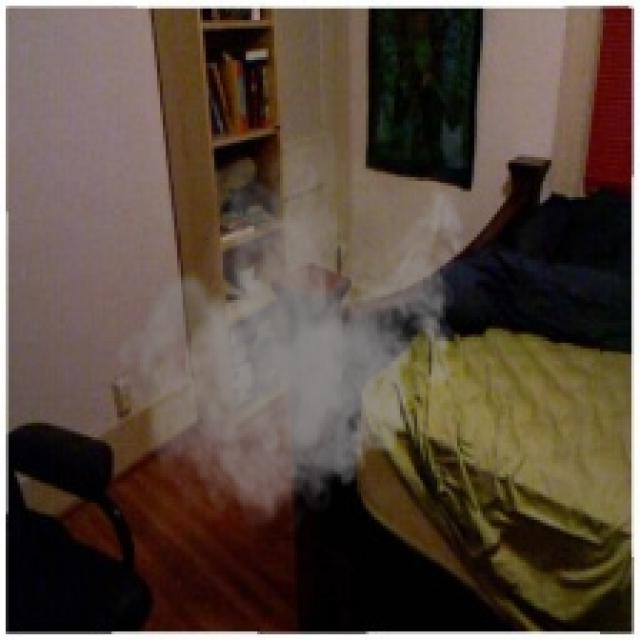smoke: (114, 117, 474, 540)
